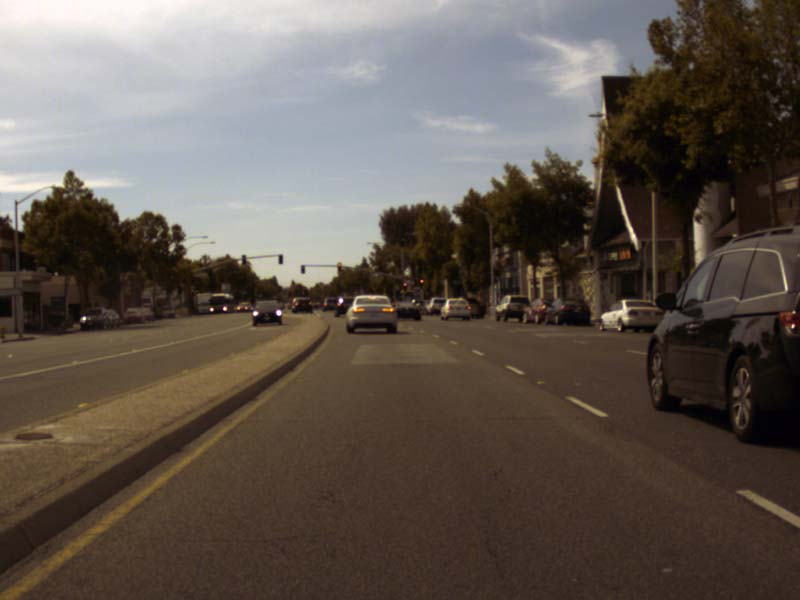Red: (419, 278, 423, 287), (337, 262, 341, 271), (402, 282, 406, 290), (301, 291, 305, 298)
